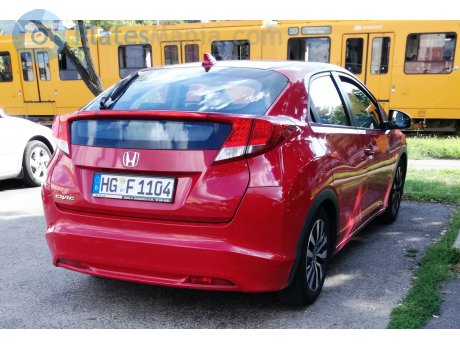License Plates: (95, 169, 175, 194)
